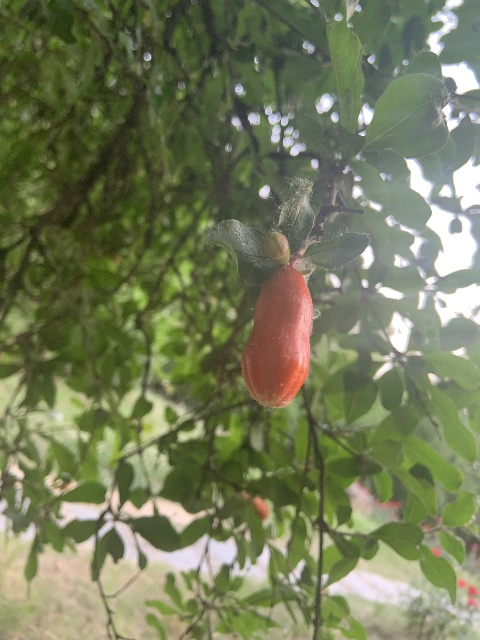bud: (241, 266, 312, 407), (241, 490, 268, 519)
